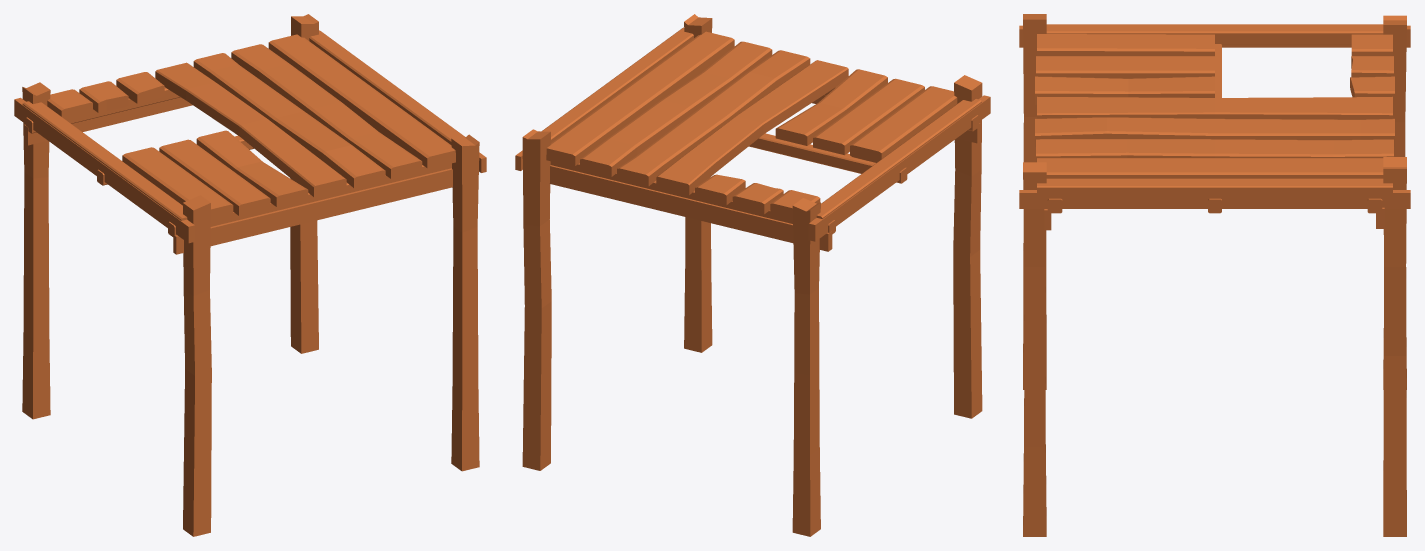
The model's file is WoodBase6.fbx.
The picture shows the model from 3 angles, left to right: view 1: azimuth 30°, elevation 25°; view 2: azimuth 150°, elevation 25°; view 3: azimuth 270°, elevation 25°; orthographic projection. The views are drawn at different scales.
Visible parts, largest first — view 1: WoodBase6; view 2: WoodBase6; view 3: WoodBase6.
Boxes of the visible parts, x1=… form: WoodBase6: x1=14, y1=14, x2=486, y2=536; WoodBase6: x1=515, y1=14, x2=990, y2=536; WoodBase6: x1=1019, y1=14, x2=1410, y2=536.
Bounding box in the file's own units: 200 × 209 × 200.
